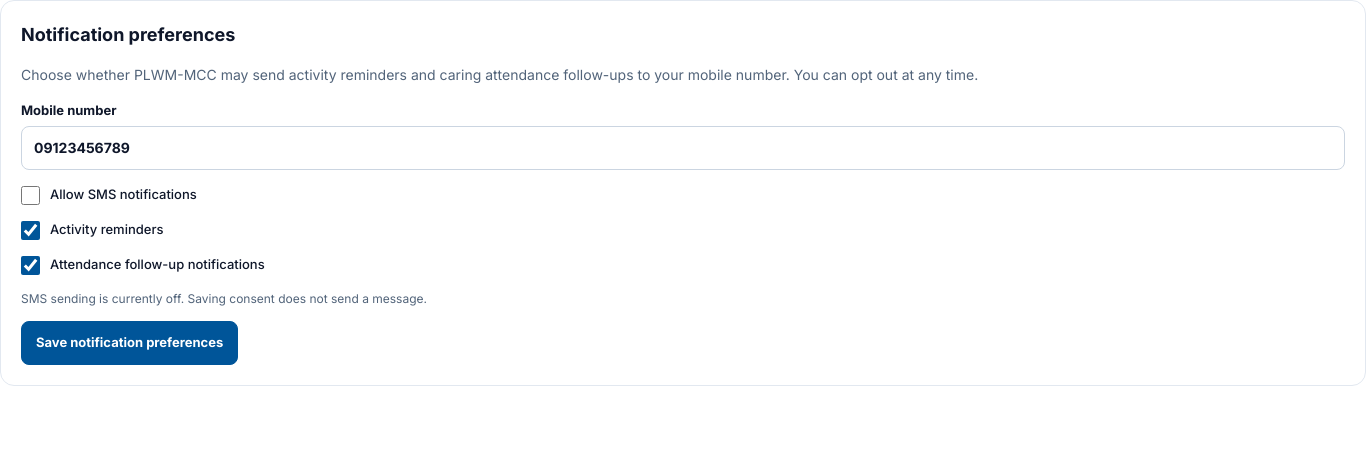
shows a save failure without reporting success
Expected: the field labelled "Mobile number" is shown, x1=21 y1=126 x2=1345 y2=170
Click the button "Save notification preferences". click: (130,343)
box: x1=21 y1=321 x2=238 y2=365
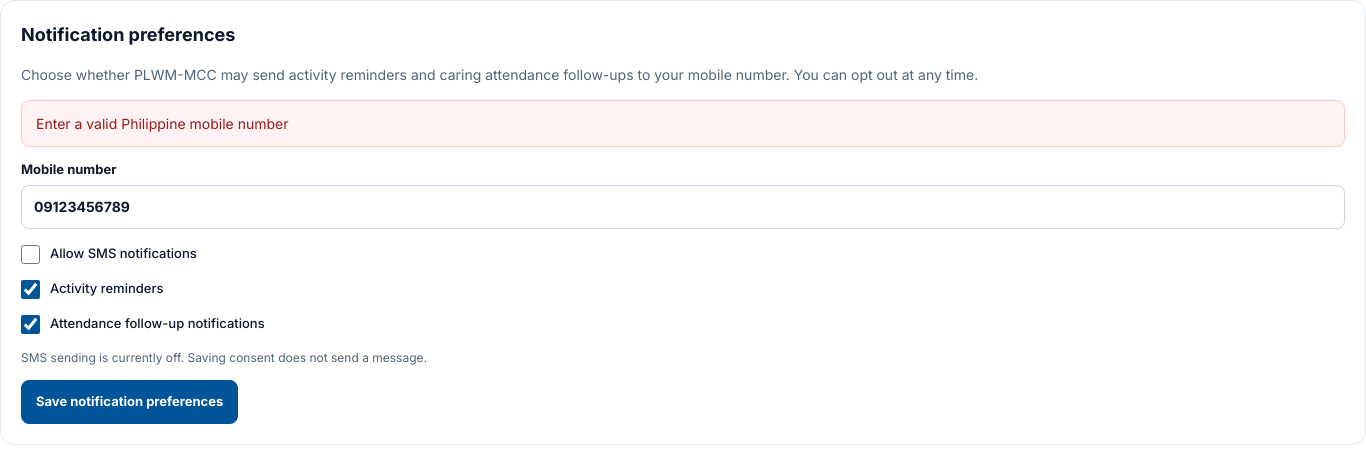
Expected: the message reads "Enter a valid Philippine mobile number", x1=36 y1=115 x2=288 y2=132
